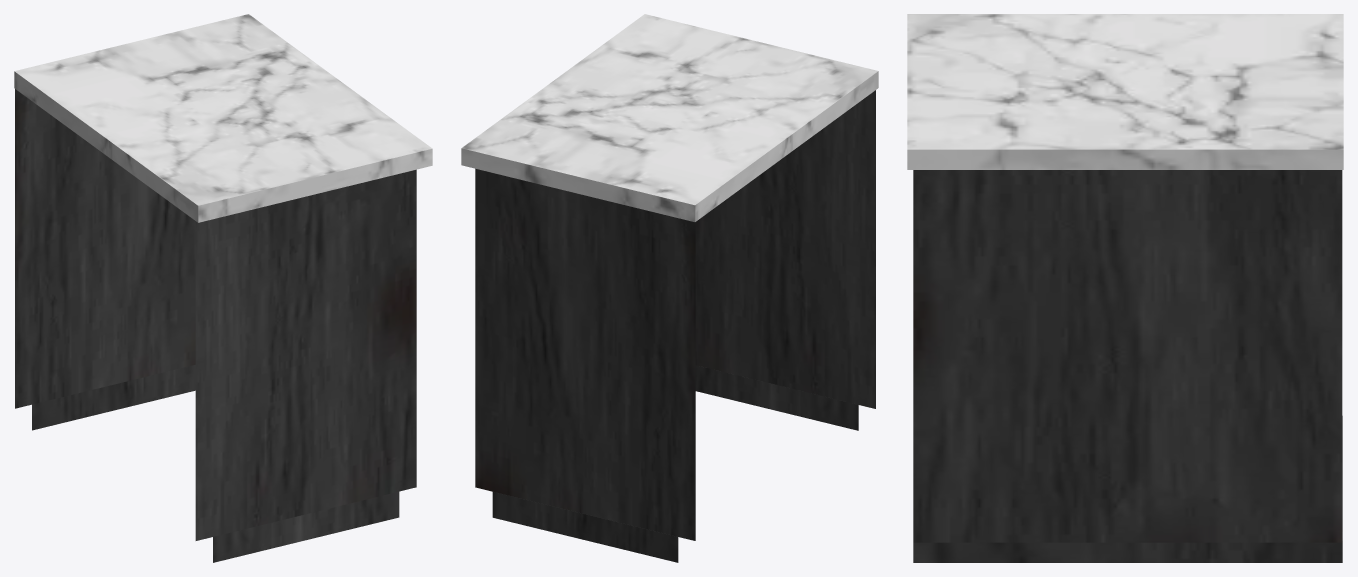
The model's file is kitchen_cupboard01.glb.
The picture shows the model from 3 angles, left to right: view 1: azimuth 30°, elevation 25°; view 2: azimuth 150°, elevation 25°; view 3: azimuth 270°, elevation 25°; orthographic projection. The views are drawn at different scales.
Visible parts, largest first — view 1: kitchen_cupboard; view 2: kitchen_cupboard; view 3: kitchen_cupboard.
Boxes of the visible parts, x1,y1,x2,y2 form: kitchen_cupboard: [14, 14, 432, 562]; kitchen_cupboard: [461, 14, 878, 562]; kitchen_cupboard: [907, 14, 1343, 562].
Size of the model in its own units: 0.4707 by 0.6967 by 0.6396.
Materials: 2 (2 with a texture image).
